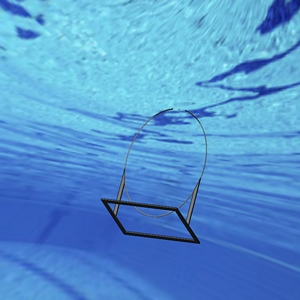circle: (100, 105, 208, 245)
